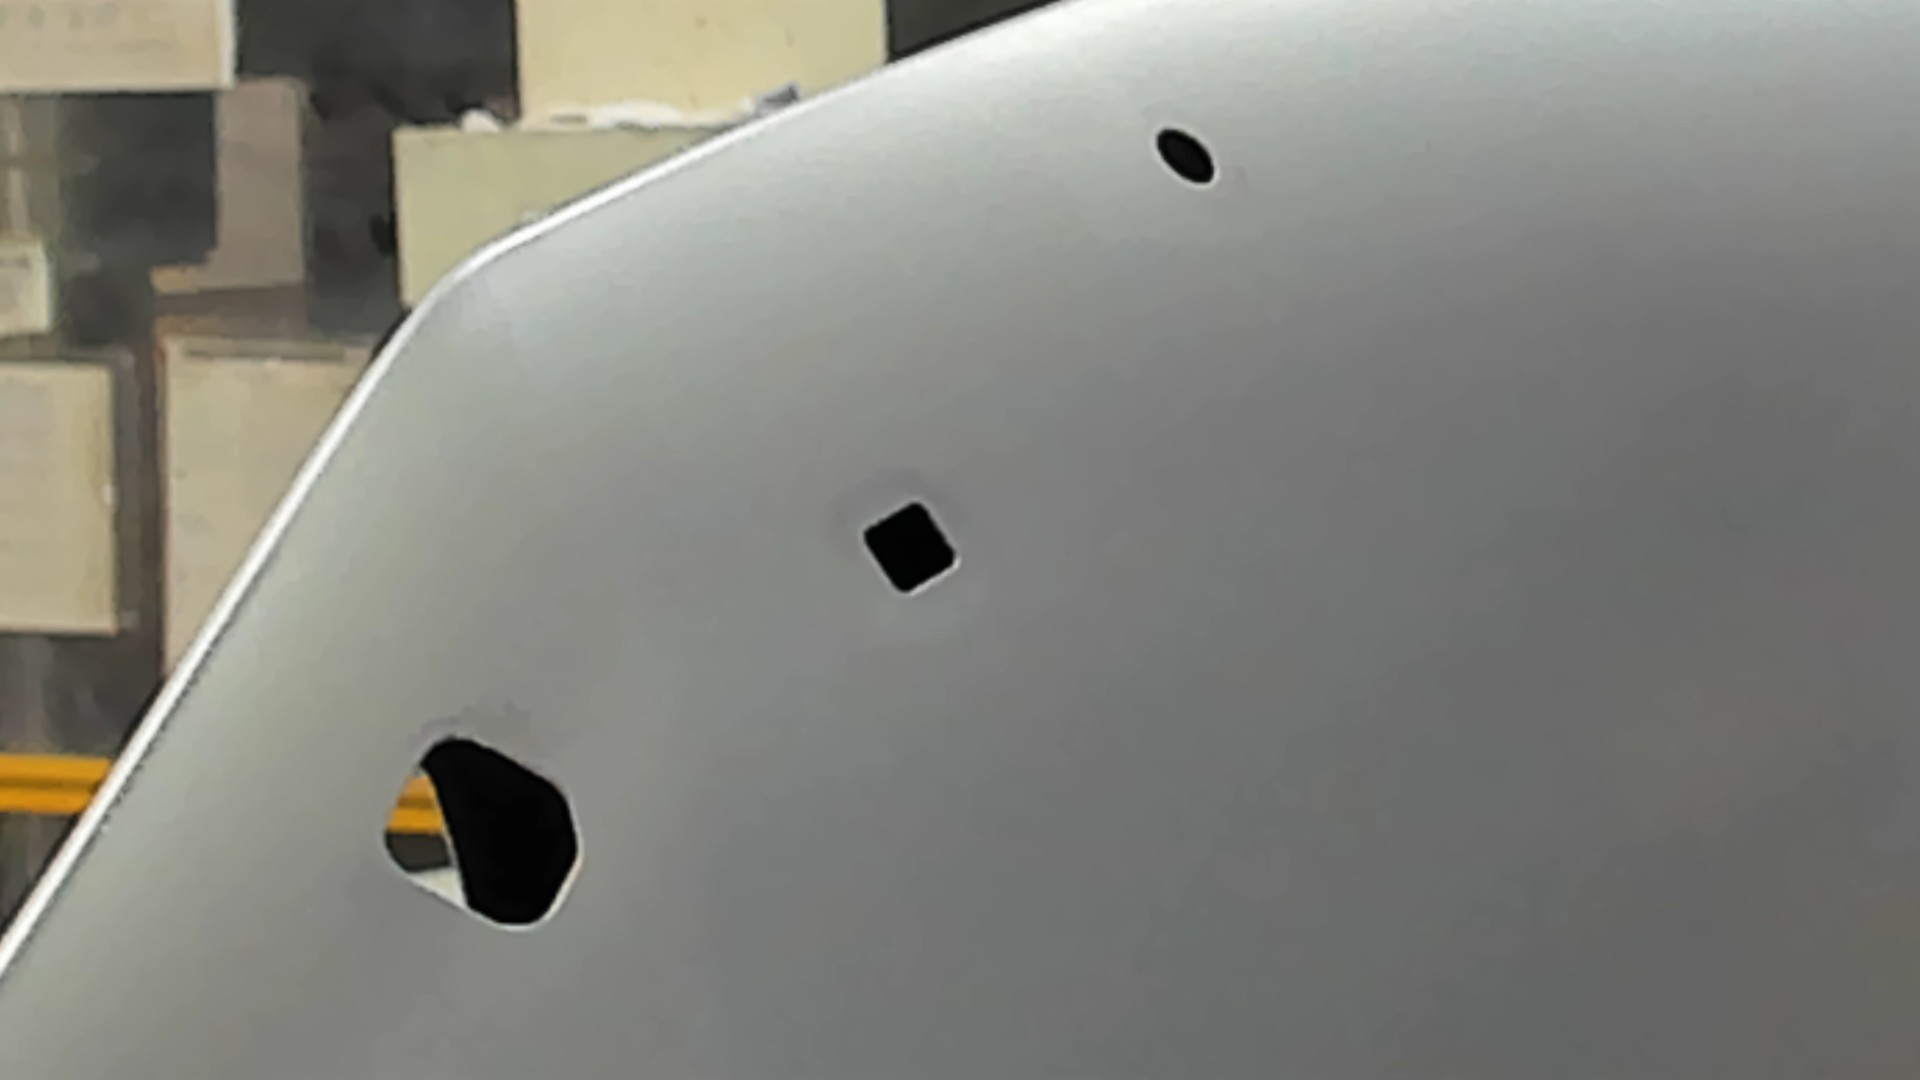chico: (1153, 123, 1218, 187)
grande: (382, 731, 589, 936)
mediano: (856, 496, 963, 600)
